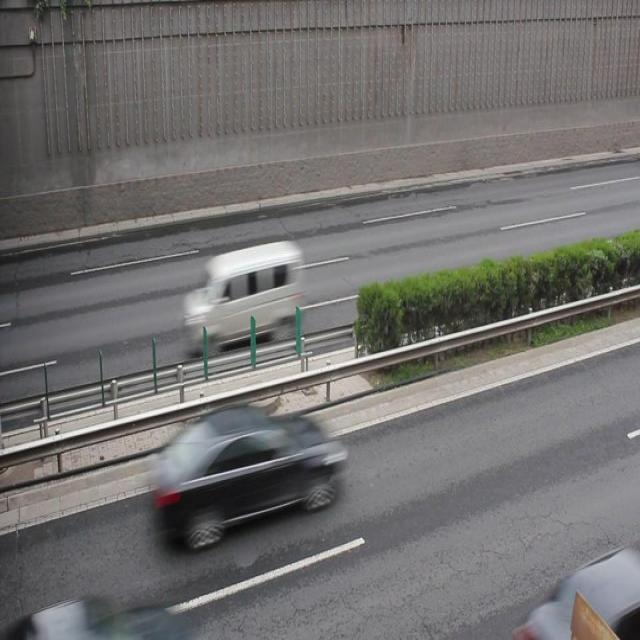car: (150, 405, 340, 551), (523, 554, 639, 640), (21, 596, 178, 640)
truck: (182, 238, 300, 353)
